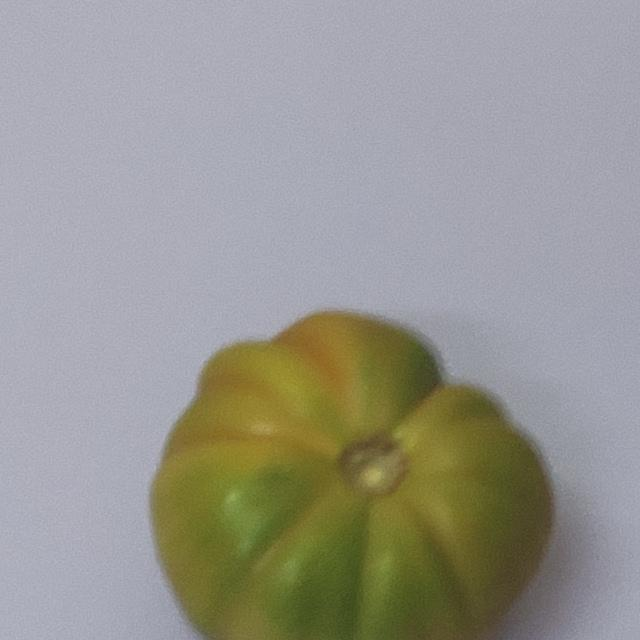tomato: (78, 254, 640, 640)
